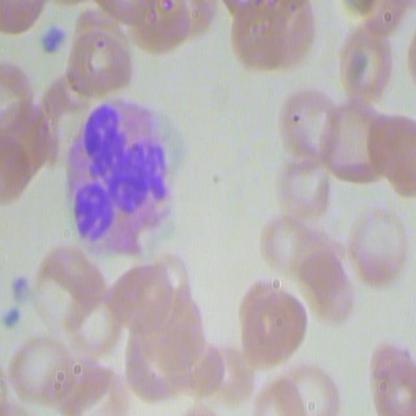Platelets: (40, 23, 66, 63), (10, 268, 34, 303), (1, 302, 25, 330)
WBC: (57, 97, 194, 258)
